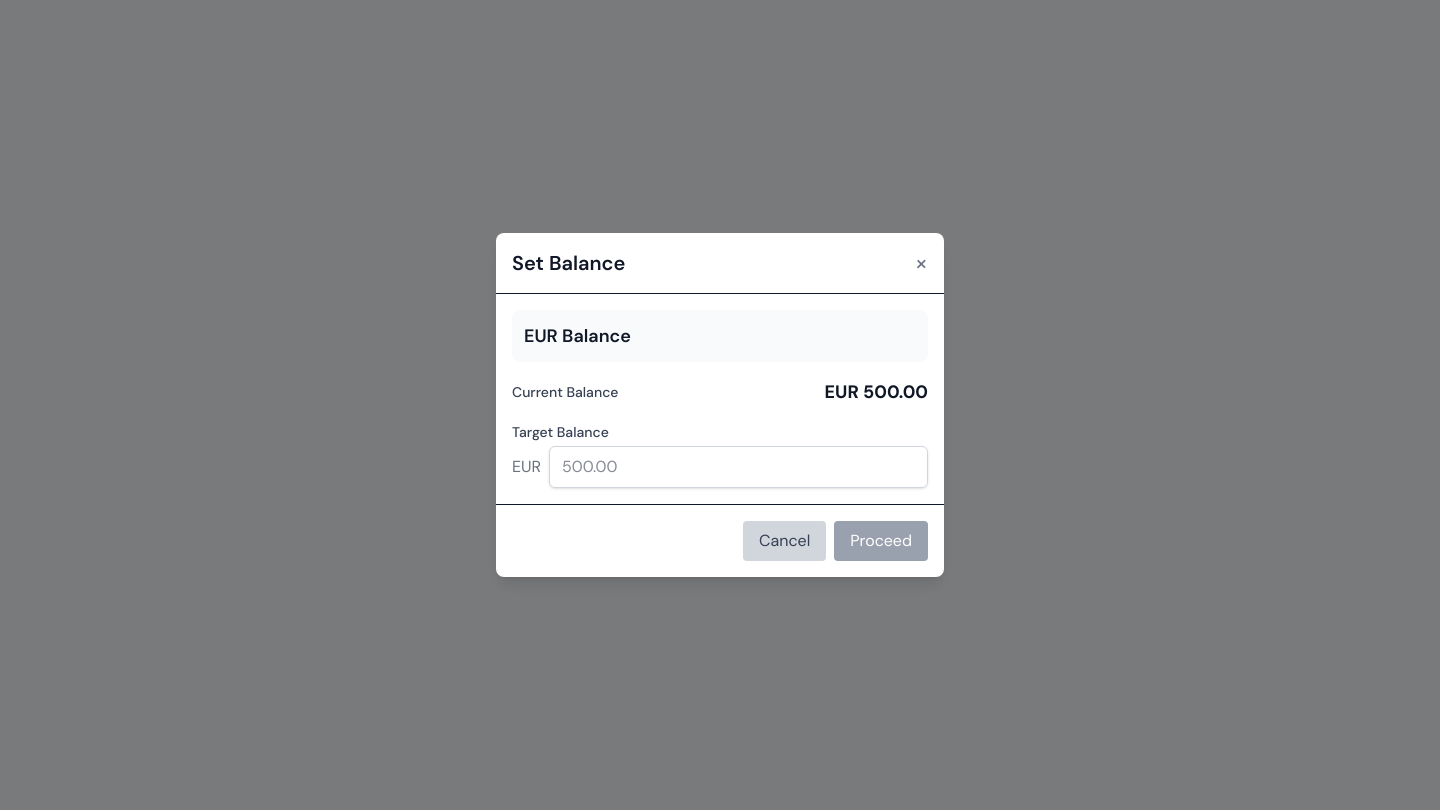
Test case: SetCashBalanceDialog › shows the server's rejection instead of reporting success
This screenshot has width=1440, height=810.
Type "1500" into the field with placeholder "500.00" at (738, 467), box x1=549 y1=446 x2=928 y2=488
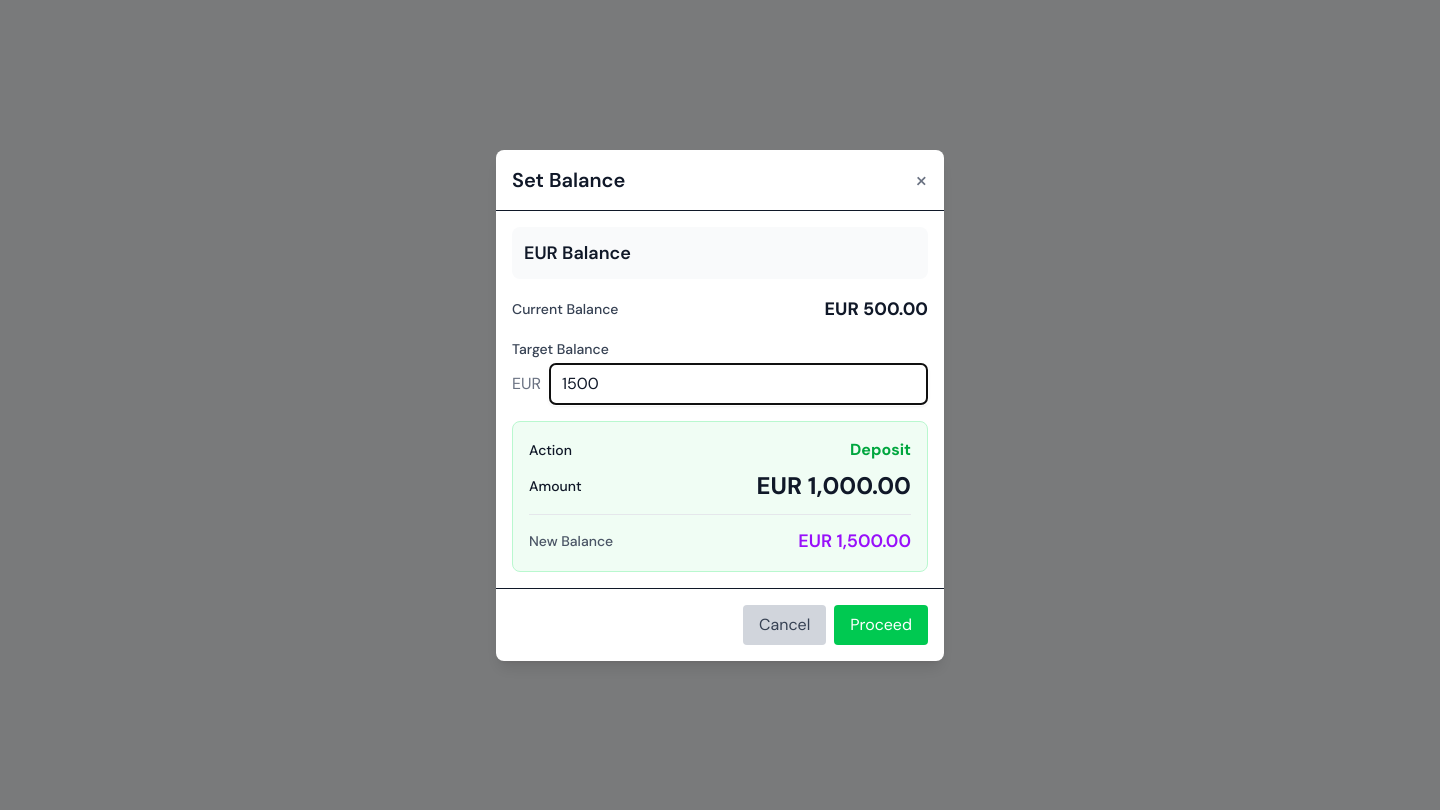
Click the button "Proceed" at (881, 624), box x1=834 y1=604 x2=928 y2=644
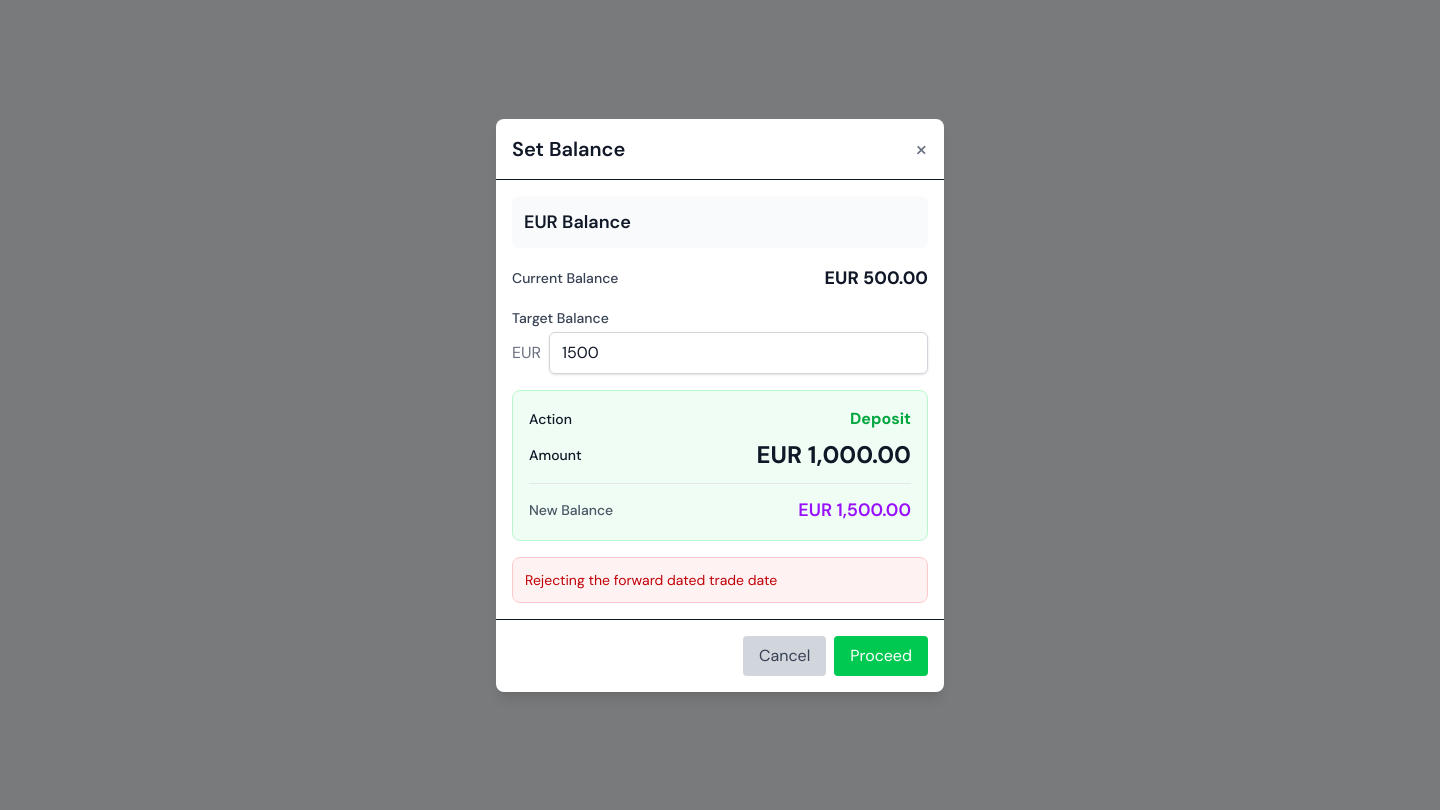
Expected: the text "Rejecting the forward dated trade date" is shown, x1=512 y1=556 x2=928 y2=602
